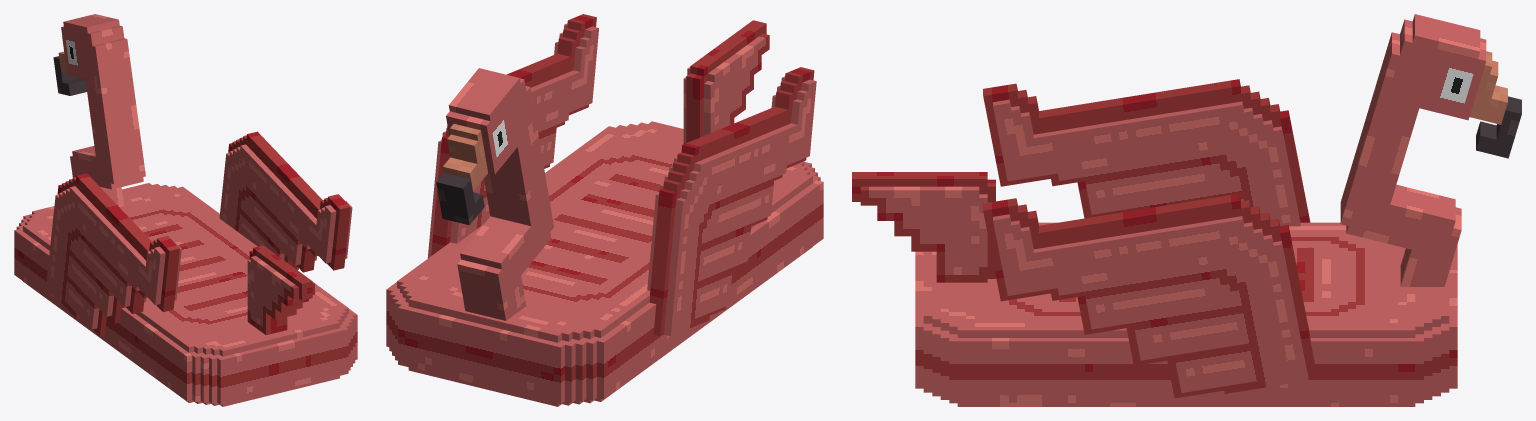
Rendered from b2bbac11-478c-406e-8a1e-f8891d178a0f.gltf.
The picture shows the model from 3 angles, left to right: view 1: azimuth 30°, elevation 25°; view 2: azimuth 150°, elevation 25°; view 3: azimuth 270°, elevation 25°; orthographic projection. The views are drawn at different scales.
Visible parts, largest first — view 1: base-Local, wingR-Local, wingL-Local, head0-Local, tail0-Local; view 2: base-Local, wingR-Local, head0-Local, wingL-Local, tail0-Local; view 3: base-Local, wingL-Local, wingR-Local, head0-Local, tail0-Local.
Boxes of the visible parts, box(x1,y1,x2,y2) form: base-Local: box(14, 183, 357, 406); wingR-Local: box(46, 173, 181, 336); wingL-Local: box(219, 131, 352, 272); head0-Local: box(53, 14, 145, 207); tail0-Local: box(247, 245, 314, 335); base-Local: box(386, 121, 823, 406); wingR-Local: box(647, 67, 816, 336); head0-Local: box(436, 68, 553, 320); wingL-Local: box(427, 14, 598, 258); tail0-Local: box(683, 20, 769, 143); base-Local: box(915, 222, 1457, 406); wingL-Local: box(983, 193, 1316, 398); wingR-Local: box(983, 79, 1310, 226); head0-Local: box(1340, 14, 1521, 286); tail0-Local: box(852, 172, 995, 282).
Size of the model in its own units: 36 by 42.75 by 79.03.
5 materials, 5 textured.
